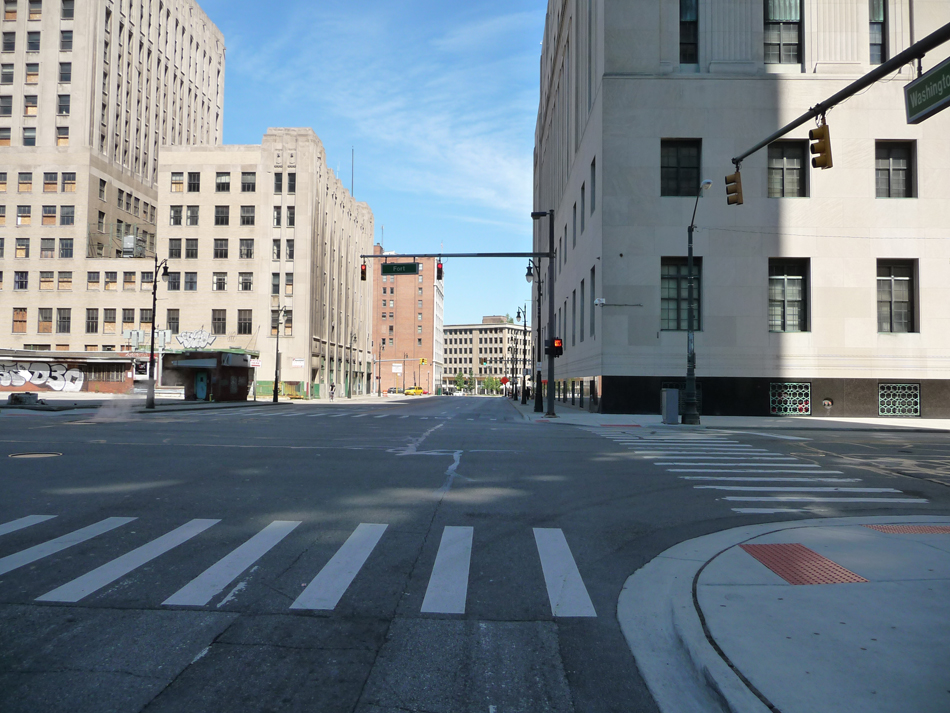strada: (1, 404, 905, 713)
striscie pedonali: (3, 511, 604, 617), (599, 422, 924, 507), (176, 405, 522, 427)
